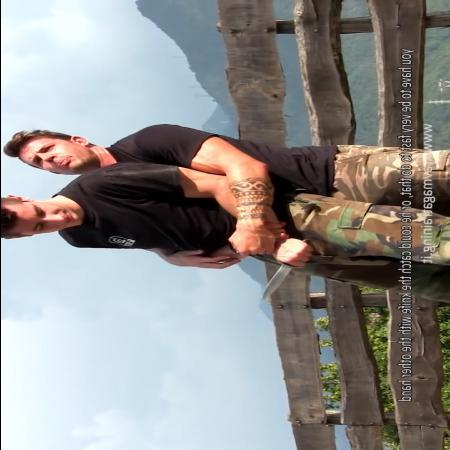long weapon: (251, 236, 317, 302)
